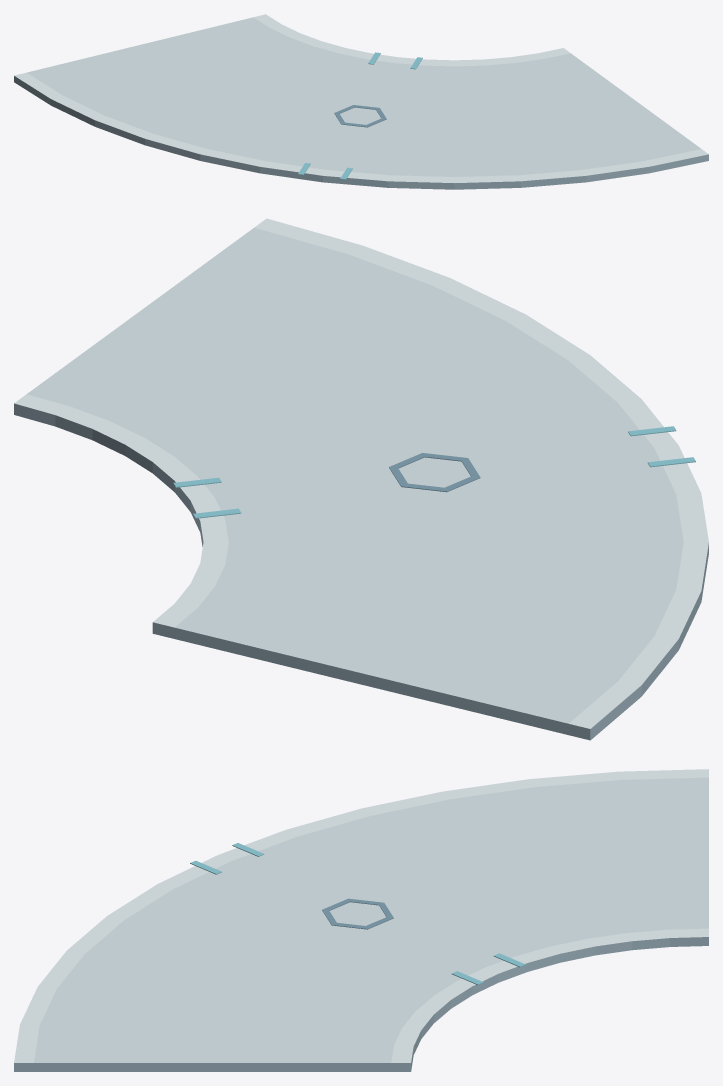
The model's file is campus_walk_bend_v01.glb.
3 renders of one model, top to bottom at view 1: azimuth 30°, elevation 25°; view 2: azimuth 150°, elevation 25°; view 3: azimuth 270°, elevation 25°, orthographic. The views are drawn at different scales.
Parts seen in each view (by area): view 1: campus_walk_bend; view 2: campus_walk_bend; view 3: campus_walk_bend.
Part boxes in pixels (left/top/right/bottom): campus_walk_bend: left=14, top=14, right=708, bottom=189; campus_walk_bend: left=14, top=218, right=708, bottom=740; campus_walk_bend: left=14, top=769, right=708, bottom=1071.
Size of the model in its own units: 5.6 by 0.087 by 5.6.
1 material, 1 textured.
